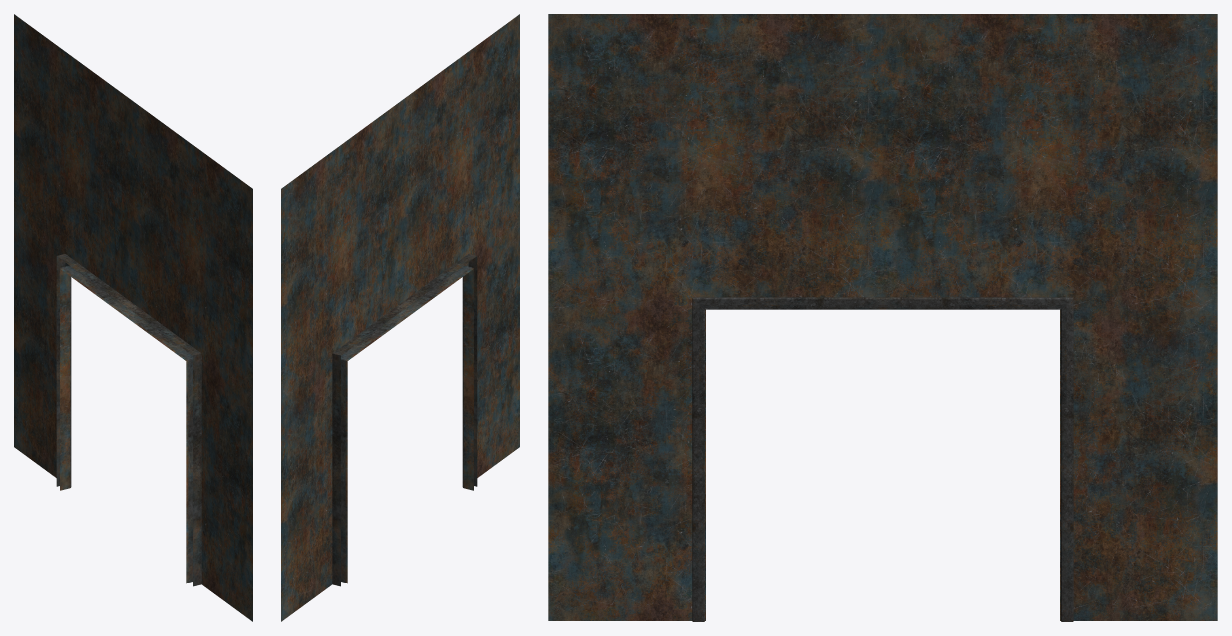
Rendered from Basement_Corridor_C_Flat_Wall_4x4m_Door.glb.
3 renders of one model, left to right at view 1: azimuth 30°, elevation 25°; view 2: azimuth 150°, elevation 25°; view 3: azimuth 270°, elevation 25°, orthographic. The views are drawn at different scales.
Visible parts, largest first — view 1: Basement_Corridor_C_Flat_Wall_4x4m_Door; view 2: Basement_Corridor_C_Flat_Wall_4x4m_Door; view 3: Basement_Corridor_C_Flat_Wall_4x4m_Door.
Boxes of the visible parts, x1,y1,x2,y2 form: Basement_Corridor_C_Flat_Wall_4x4m_Door: (14,14,252,621); Basement_Corridor_C_Flat_Wall_4x4m_Door: (281,14,519,621); Basement_Corridor_C_Flat_Wall_4x4m_Door: (548,14,1217,621).
Size of the model in its own units: 0.1159 by 4 by 4.
2 materials, 2 textured.
